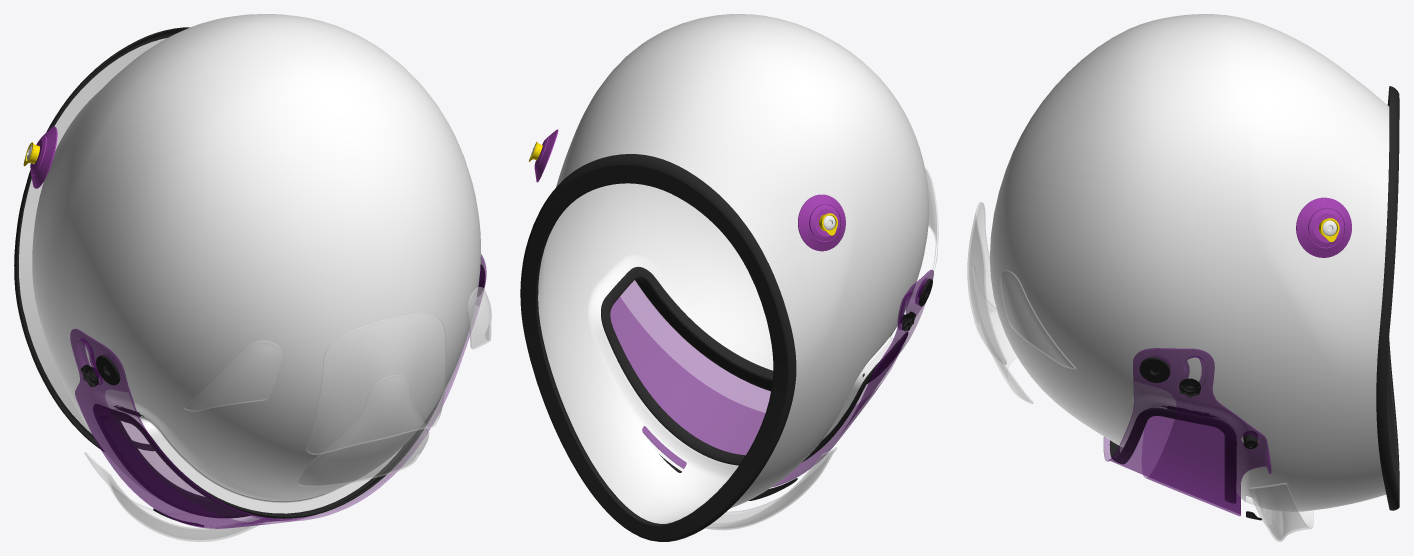
File: helmet.glb
3 views of the same model, side by side, from view 1: azimuth 30°, elevation 25°; view 2: azimuth 150°, elevation 25°; view 3: azimuth 270°, elevation 25° (orthographic). The views are drawn at different scales.
Parts seen in each view (by area): view 1: __DEFAULT, ALETTE, Nuovo materiale 001, NERO GUARNIZ, NERO PLATIC, VIOLA METALLO; view 2: __DEFAULT, NERO GUARNIZ, Nuovo materiale 001, ALETTE, VIOLA METALLO, NERO PLATIC; view 3: __DEFAULT, Nuovo materiale 001, ALETTE, NERO GUARNIZ, VIOLA METALLO, NERO PLATIC.
Boxes of the visible parts, <box> form: __DEFAULT: <box>18,14,480,513</box>; ALETTE: <box>84,287,491,541</box>; Nuovo materiale 001: <box>70,254,486,528</box>; NERO GUARNIZ: <box>14,27,442,518</box>; NERO PLATIC: <box>80,265,484,526</box>; VIOLA METALLO: <box>30,126,57,188</box>; __DEFAULT: <box>538,14,928,523</box>; NERO GUARNIZ: <box>520,154,908,541</box>; Nuovo materiale 001: <box>610,269,933,487</box>; ALETTE: <box>705,167,938,530</box>; VIOLA METALLO: <box>534,129,845,251</box>; NERO PLATIC: <box>659,278,932,500</box>; __DEFAULT: <box>989,14,1389,511</box>; Nuovo materiale 001: <box>1103,348,1271,516</box>; ALETTE: <box>967,202,1313,541</box>; NERO GUARNIZ: <box>1109,86,1399,510</box>; VIOLA METALLO: <box>1296,197,1351,257</box>; NERO PLATIC: <box>1139,357,1261,520</box>.
Bounding box in the file's own units: 51.53 × 68.66 × 53.8.
